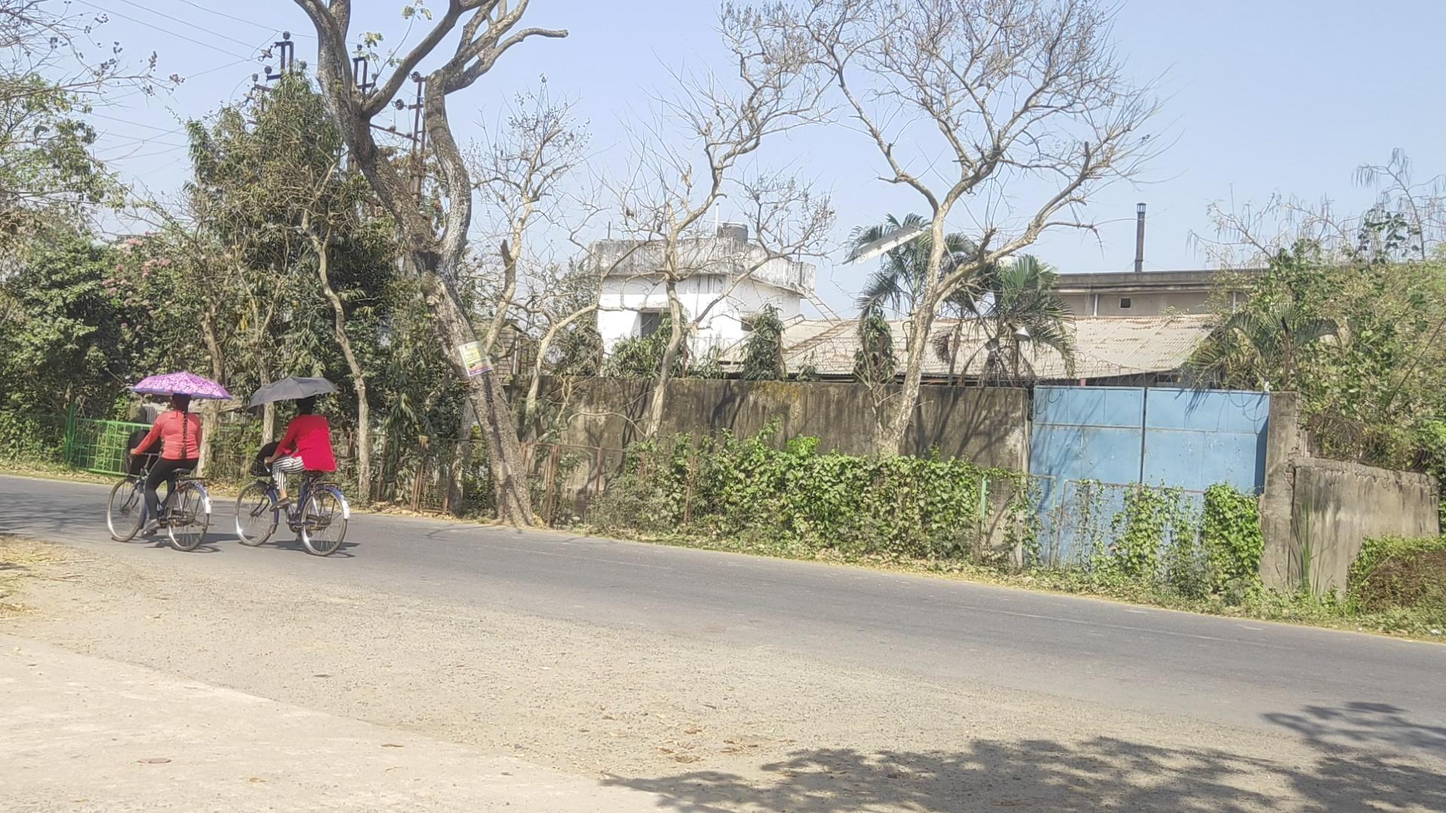bike: (106, 370, 231, 551), (235, 377, 351, 556)
